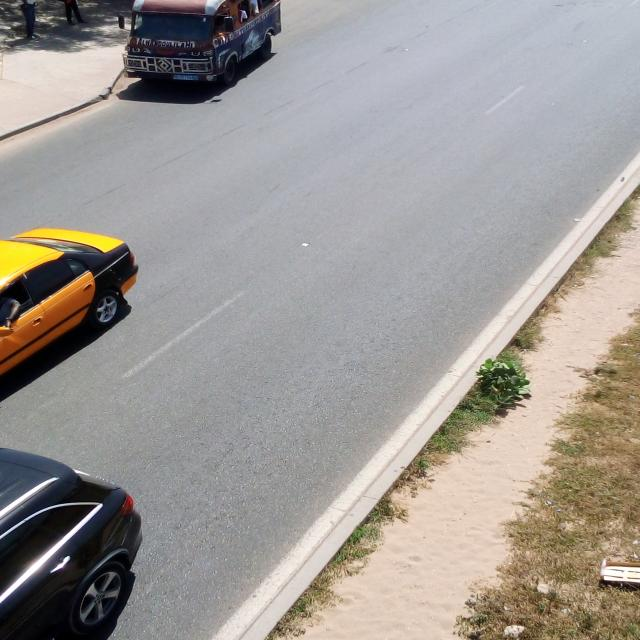car rapide: (124, 1, 283, 86)
particulier: (1, 450, 144, 640)
taxi: (1, 230, 139, 375)
